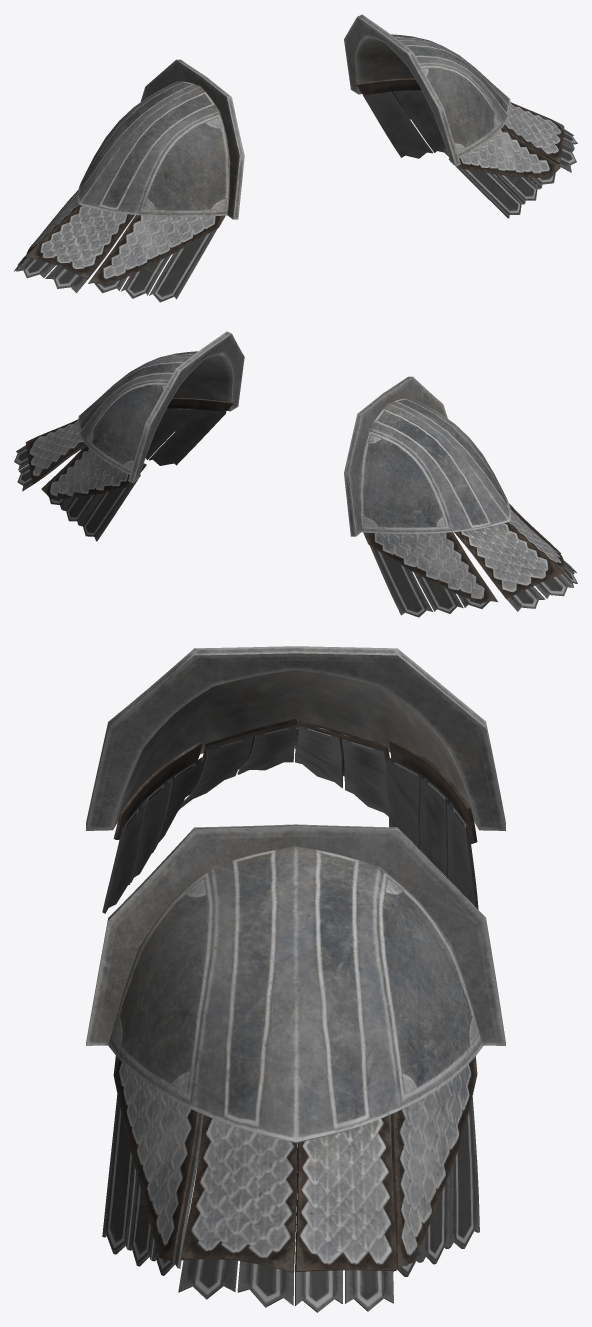
Rendered from sk_dwarf_erebor_pauldron_plate_elite_a.fbx.
The picture shows the model from 3 angles, top to bottom: view 1: azimuth 30°, elevation 25°; view 2: azimuth 150°, elevation 25°; view 3: azimuth 270°, elevation 25°; orthographic projection. The views are drawn at different scales.
Parts seen in each view (by area): view 1: sk_dwarf_erebor_pauldron_plate_elite_a; view 2: sk_dwarf_erebor_pauldron_plate_elite_a; view 3: sk_dwarf_erebor_pauldron_plate_elite_a.
Part boxes in pixels (box(x1,y1,x2,y2)): sk_dwarf_erebor_pauldron_plate_elite_a: box(14, 14, 577, 302); sk_dwarf_erebor_pauldron_plate_elite_a: box(14, 331, 577, 617); sk_dwarf_erebor_pauldron_plate_elite_a: box(86, 646, 505, 1312).
Size of the model in its own units: 0.9344 by 0.3048 by 0.2804.
Materials: 1 (1 with a texture image).
